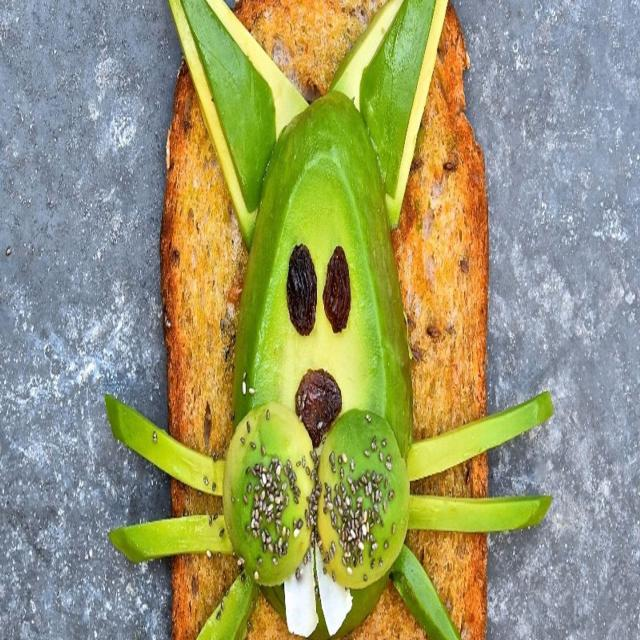aguacate: (217, 400, 419, 596)
